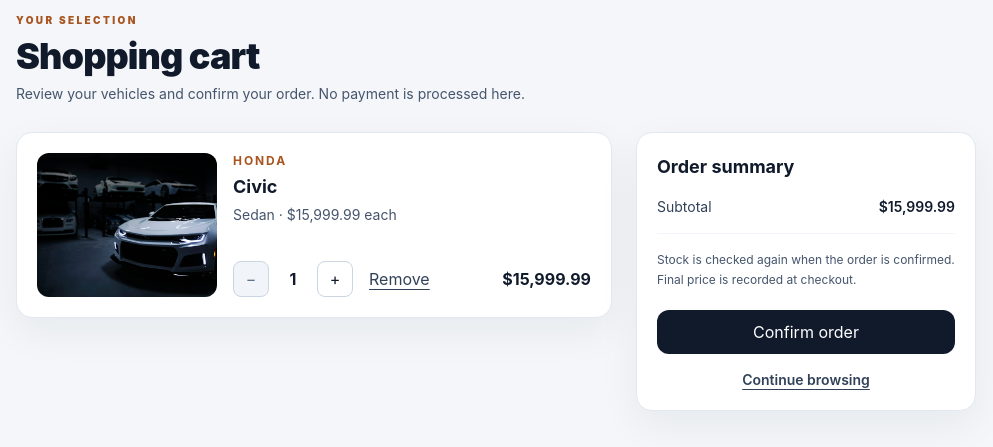
Test: customer cart and checkout › clears the cart only after checkout succeeds
The width and height of the screenshot is (993, 447).
Click the button "Confirm order": (806, 332) 657,310 -> 955,354
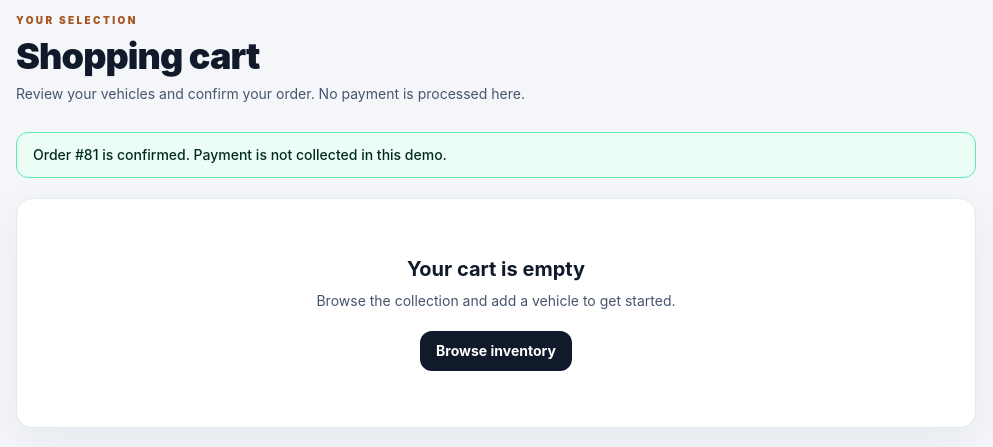
Result: the message shows "Order #81 is confirmed" at 33,146 -> 447,163
